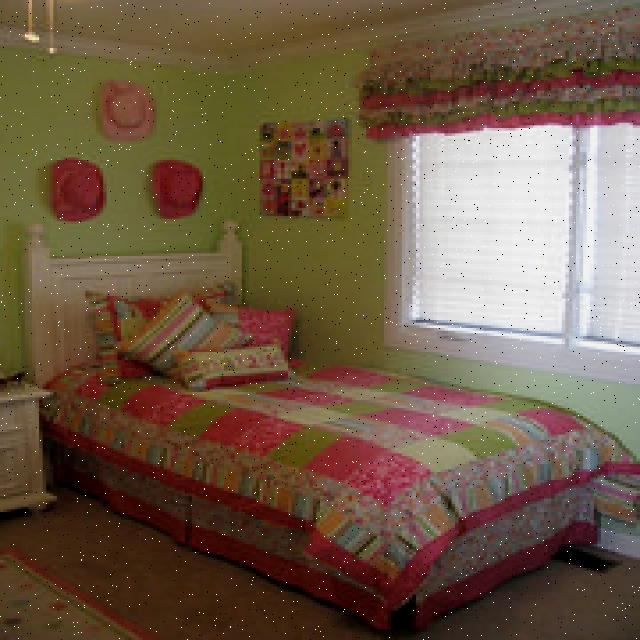bed: (13, 210, 623, 622)
